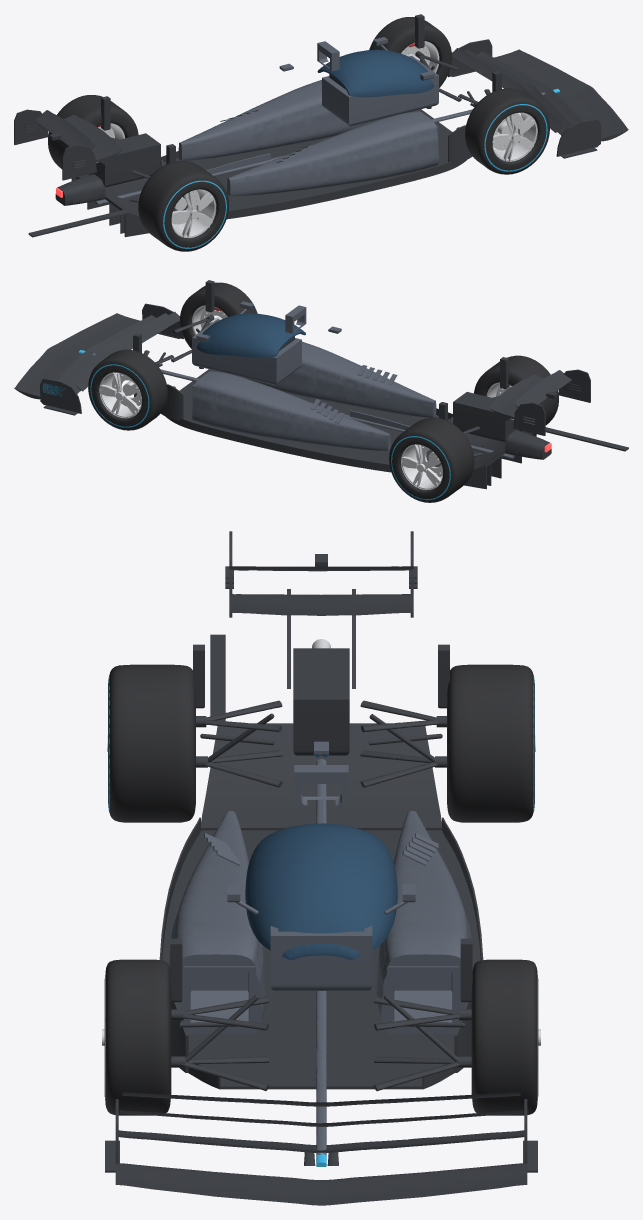
Rendered from vx01-formula.glb.
3 renders of one model, top to bottom at view 1: azimuth 30°, elevation 25°; view 2: azimuth 150°, elevation 25°; view 3: azimuth 270°, elevation 25°, orthographic. The views are drawn at different scales.
Visible parts, largest first — view 1: Body Sidepod R, Body Sidepod L, Wheel RR Tire, Wheel FR Tire, Cockpit Canopy, Underbody Floor, FrontWing MainPlane, Cockpit TubLiner, Rear GearboxCasing, Wheel RL Tire, Underbody EdgeFence R, Wheel FL Tire (+21 smaller); view 2: Body Sidepod L, Body Sidepod R, Wheel RL Tire, Wheel FL Tire, Cockpit Canopy, Underbody Floor, FrontWing MainPlane, Cockpit TubLiner, Rear GearboxCasing, Wheel FR Tire, Underbody EdgeFence L, Wheel RR Tire (+20 smaller); view 3: Underbody Floor, Underbody Diffuser, Cockpit Canopy, Wheel RL Tire, Wheel RR Tire, Body Sidepod R, Body Sidepod L, FrontWing MainPlane, Wheel FL Tire, Wheel FR Tire, Rear GearboxCasing, Cockpit TubLiner (+20 smaller).
Boxes of the visible parts, x1=… form: Body Sidepod R: x1=227, y1=111, x2=438, y2=196; Body Sidepod L: x1=178, y1=80, x2=382, y2=160; Wheel RR Tire: x1=138, y1=161, x2=228, y2=251; Wheel FR Tire: x1=465, y1=88, x2=549, y2=174; Cockpit Canopy: x1=317, y1=49, x2=434, y2=97; Underbody Floor: x1=144, y1=109, x2=466, y2=219; FrontWing MainPlane: x1=494, y1=49, x2=628, y2=141; Cockpit TubLiner: x1=322, y1=55, x2=438, y2=126; Rear GearboxCasing: x1=90, y1=133, x2=160, y2=187; Wheel RL Tire: x1=48, y1=95, x2=138, y2=175; Underbody EdgeFence R: x1=227, y1=161, x2=464, y2=218; Wheel FL Tire: x1=369, y1=17, x2=451, y2=87; Body Sidepod L: x1=192, y1=371, x2=390, y2=450; Body Sidepod R: x1=245, y1=341, x2=436, y2=417; Wheel RL Tire: x1=389, y1=417, x2=474, y2=502; Wheel FL Tire: x1=88, y1=349, x2=167, y2=430; Cockpit Canopy: x1=197, y1=313, x2=305, y2=357; Underbody Floor: x1=165, y1=369, x2=468, y2=472; FrontWing MainPlane: x1=14, y1=313, x2=140, y2=399; Cockpit TubLiner: x1=192, y1=319, x2=301, y2=385; Rear GearboxCasing: x1=453, y1=392, x2=519, y2=442; Wheel FR Tire: x1=180, y1=282, x2=257, y2=348; Underbody EdgeFence L: x1=167, y1=417, x2=390, y2=471; Wheel RR Tire: x1=474, y1=355, x2=558, y2=431; Underbody Floor: x1=162, y1=830, x2=480, y2=1089; Underbody Diffuser: x1=201, y1=723, x2=441, y2=830; Cockpit Canopy: x1=245, y1=823, x2=397, y2=959; Wheel RL Tire: x1=447, y1=664, x2=534, y2=822; Wheel RR Tire: x1=108, y1=664, x2=195, y2=822; Body Sidepod R: x1=169, y1=811, x2=266, y2=1033; Body Sidepod L: x1=376, y1=811, x2=473, y2=1033; FrontWing MainPlane: x1=115, y1=1163, x2=527, y2=1205; Wheel FL Tire: x1=471, y1=959, x2=538, y2=1115; Wheel FR Tire: x1=104, y1=959, x2=171, y2=1115; Rear GearboxCasing: x1=293, y1=648, x2=349, y2=755; Cockpit TubLiner: x1=270, y1=926, x2=372, y2=990.
Bounding box in the file's own units: 5.89 × 1.13 × 2.03.
